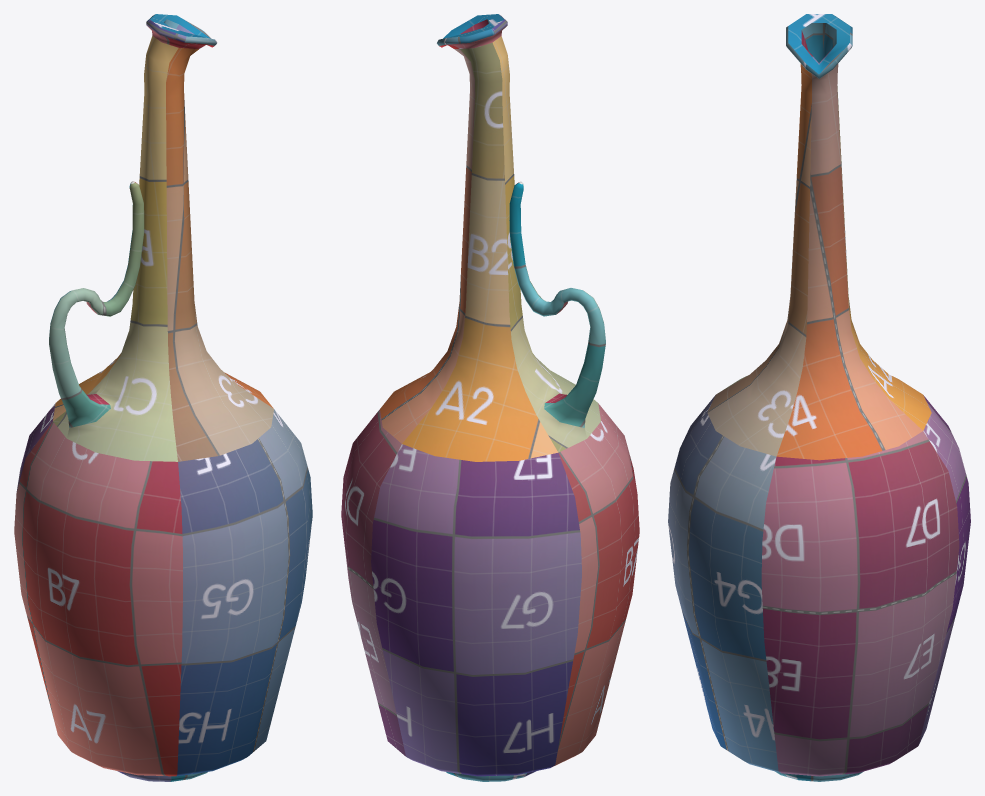
Rendered from LongVase_LOW.fbx.
The picture shows the model from 3 angles, left to right: view 1: azimuth 30°, elevation 25°; view 2: azimuth 150°, elevation 25°; view 3: azimuth 270°, elevation 25°; orthographic projection.
Parts seen in each view (by area): view 1: LongVase_LOW.001; view 2: LongVase_LOW.001; view 3: LongVase_LOW.001.
Boxes of the visible parts, x1=… form: LongVase_LOW.001: x1=14, y1=14, x2=312, y2=781; LongVase_LOW.001: x1=341, y1=14, x2=639, y2=781; LongVase_LOW.001: x1=668, y1=14, x2=970, y2=781.
Size of the model in its own units: 1.12 by 3.02 by 1.12.
2 materials, 1 textured.
